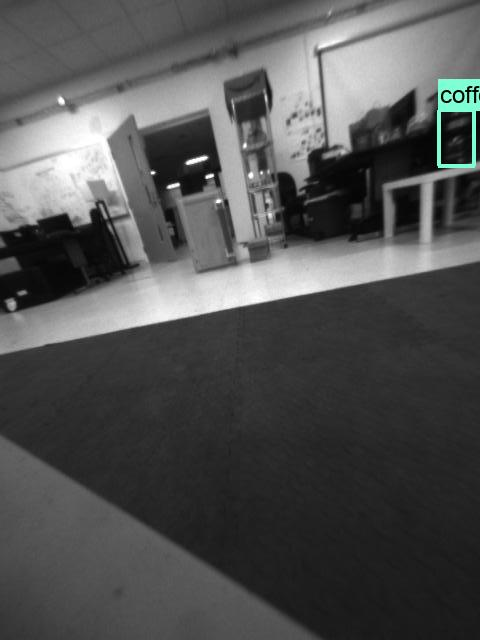coffee_pot: (438, 113, 472, 162)
